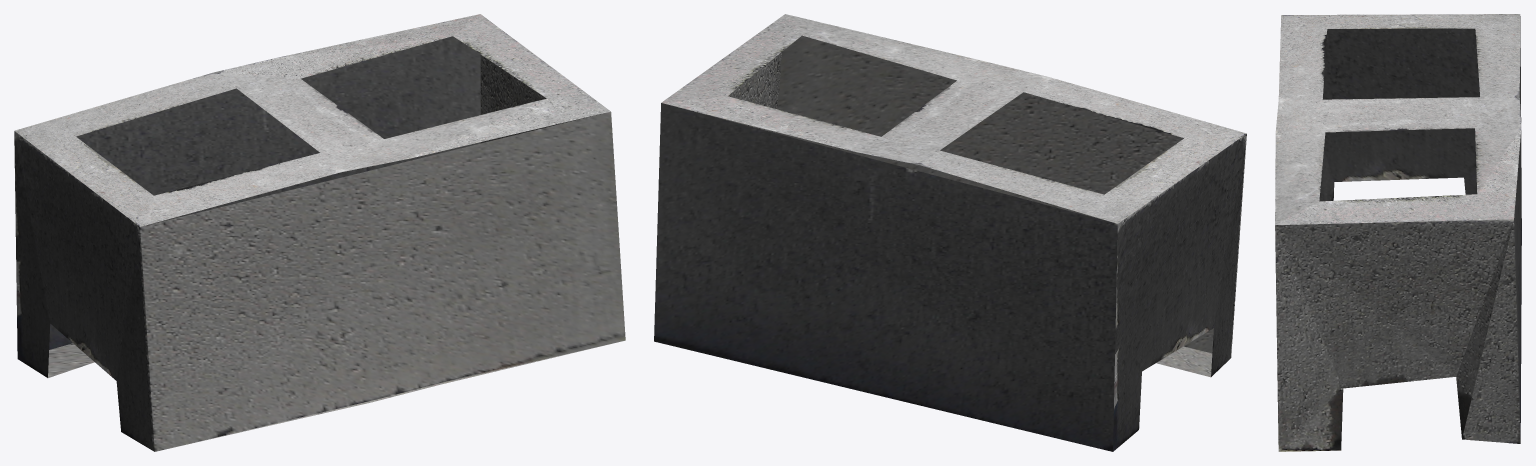
Rendered from cinderblock.fbx.
3 renders of one model, left to right at view 1: azimuth 30°, elevation 25°; view 2: azimuth 150°, elevation 25°; view 3: azimuth 270°, elevation 25°, orthographic. The views are drawn at different scales.
Visible parts, largest first — view 1: cinderblock:Default; view 2: cinderblock:Default; view 3: cinderblock:Default.
Part boxes in pixels (bbox=[...]): cinderblock:Default: bbox=[14, 14, 625, 451]; cinderblock:Default: bbox=[654, 14, 1246, 451]; cinderblock:Default: bbox=[1275, 14, 1521, 451].
Bounding box in the file's own units: 0.1815 × 0.087 × 0.0856.
